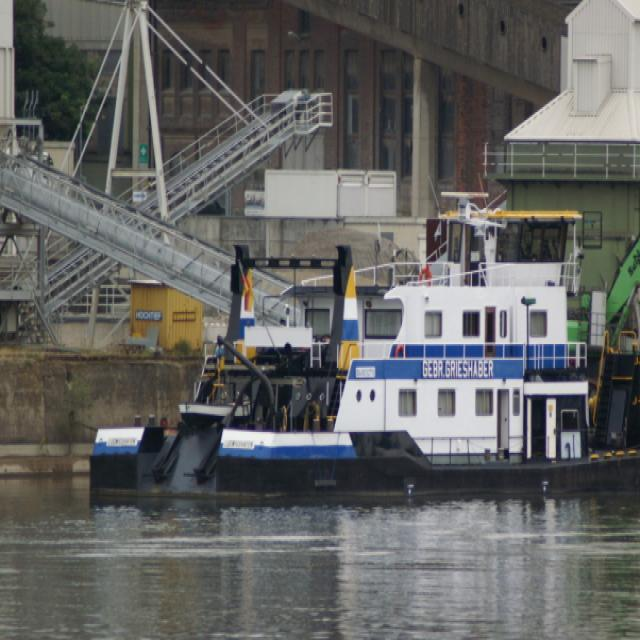tugboat: (86, 182, 640, 516)
